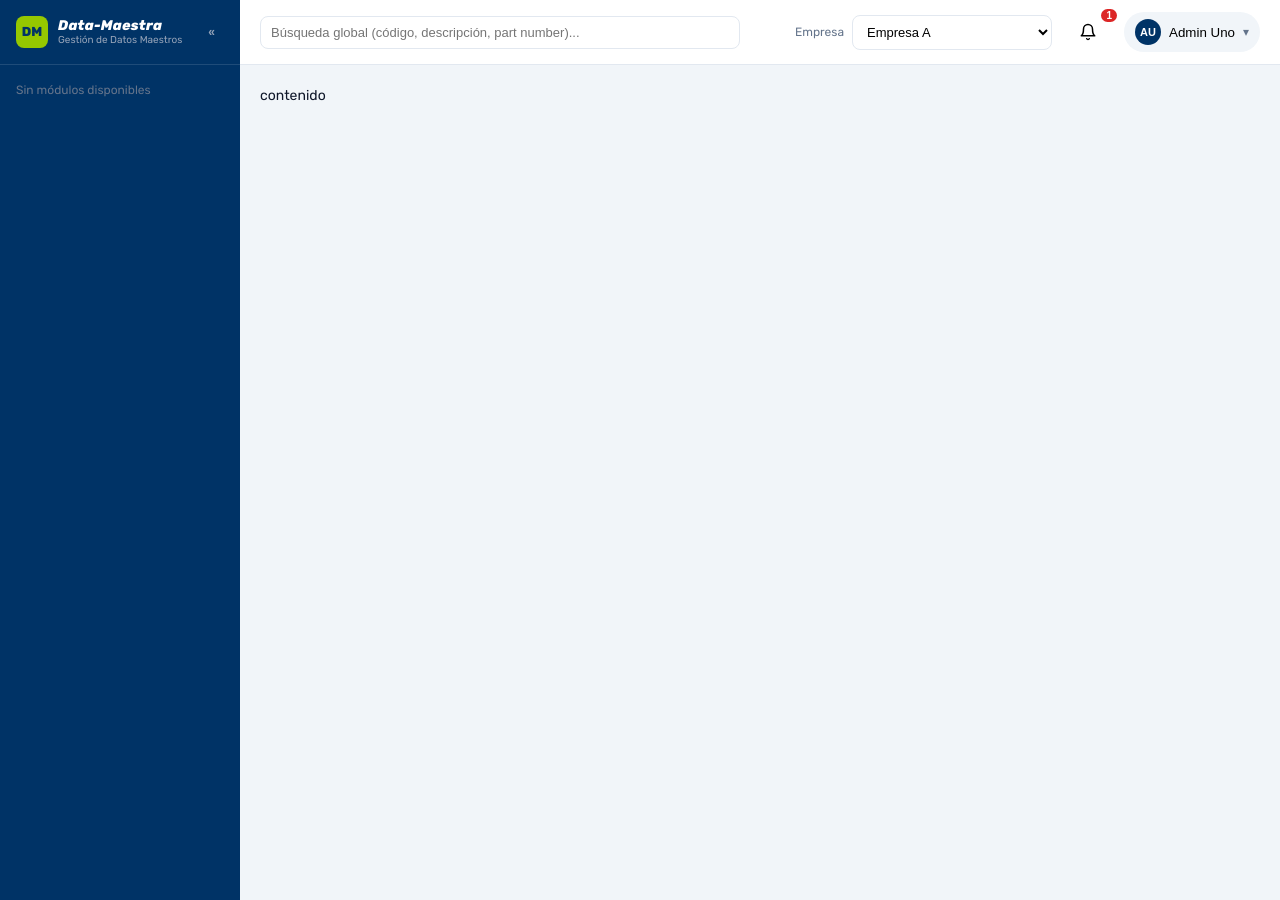
Test case: Campana 11G › muestra contador de no leídas y lista propia al abrir
The width and height of the screenshot is (1280, 900).
Expected: the text "1" is shown, [1102, 9, 1117, 22]
Click the button named "Notificaciones": (1088, 32) [1064, 14, 1112, 50]
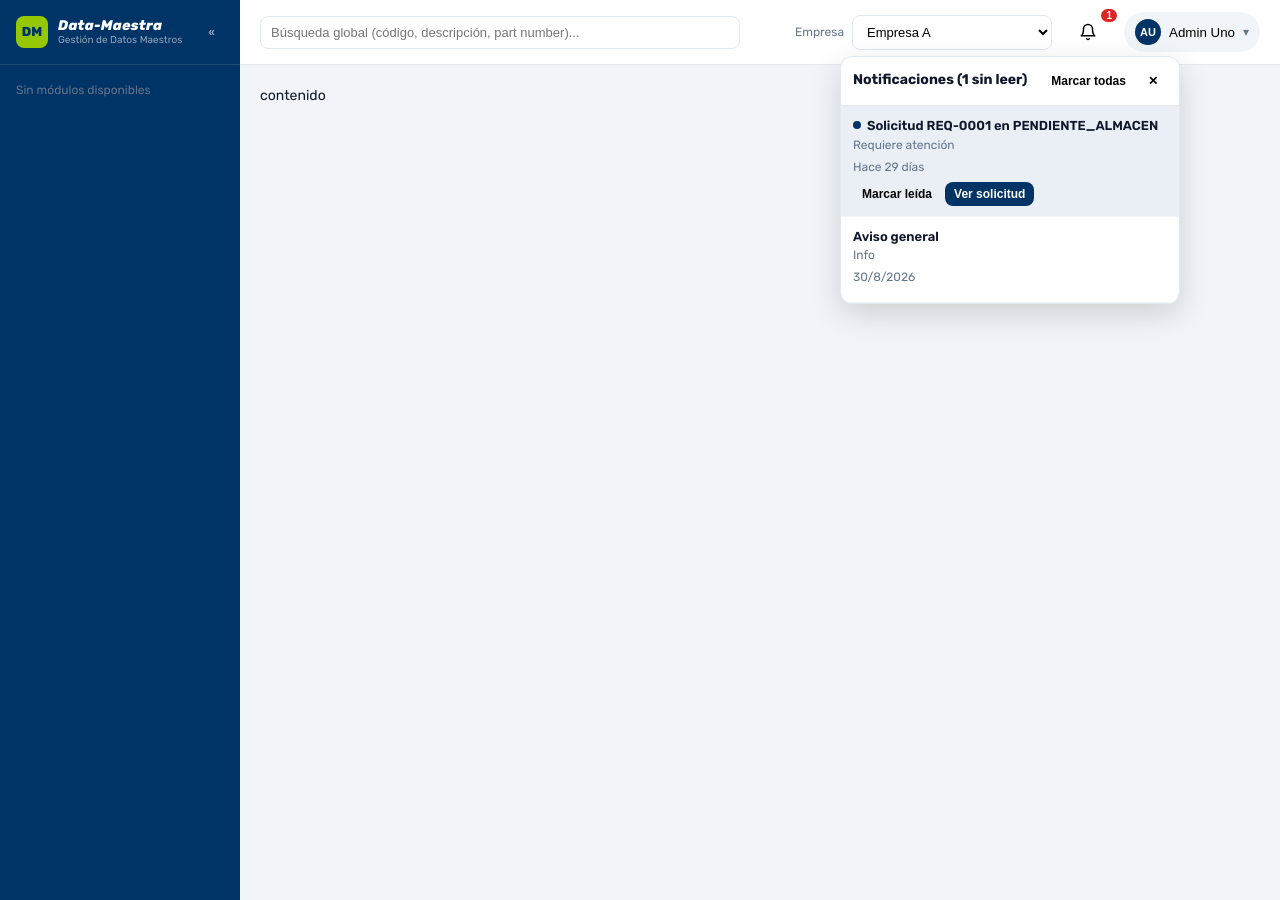
Expected: the text "Solicitud REQ-0001 en PENDIENTE_ALMACEN" is shown, [853, 116, 1167, 136]
